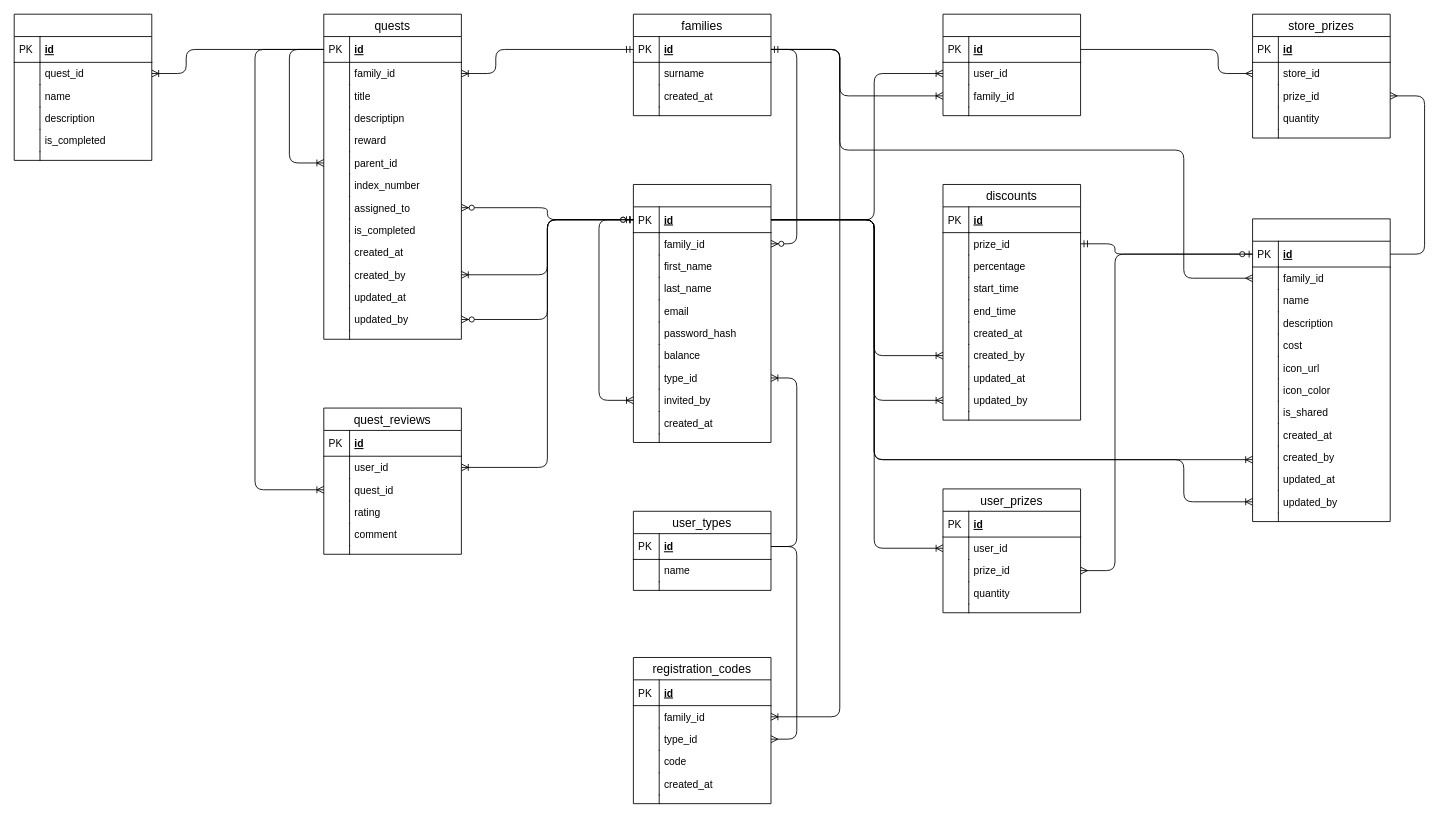
This 1439x818 diagram has some shape labels left out. Here are the shapes that lost their labels. From the top down, the box of each, then its label:
(942, 13, 1081, 116): stores
(13, 13, 152, 160): quest_tasks
(633, 184, 771, 442): users
(1252, 218, 1390, 522): prizes
